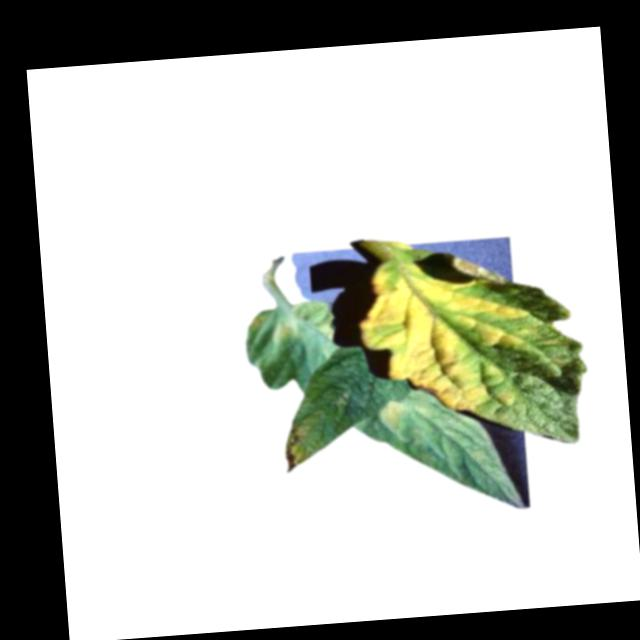Leaf_Mold: (354, 247, 571, 417), (281, 414, 322, 473), (378, 398, 433, 431)
